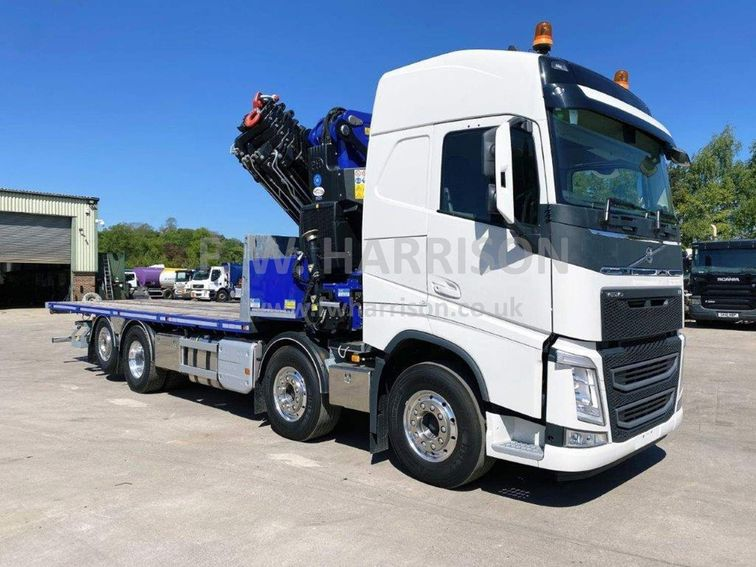Semi: (45, 22, 685, 489), (684, 240, 755, 328)
